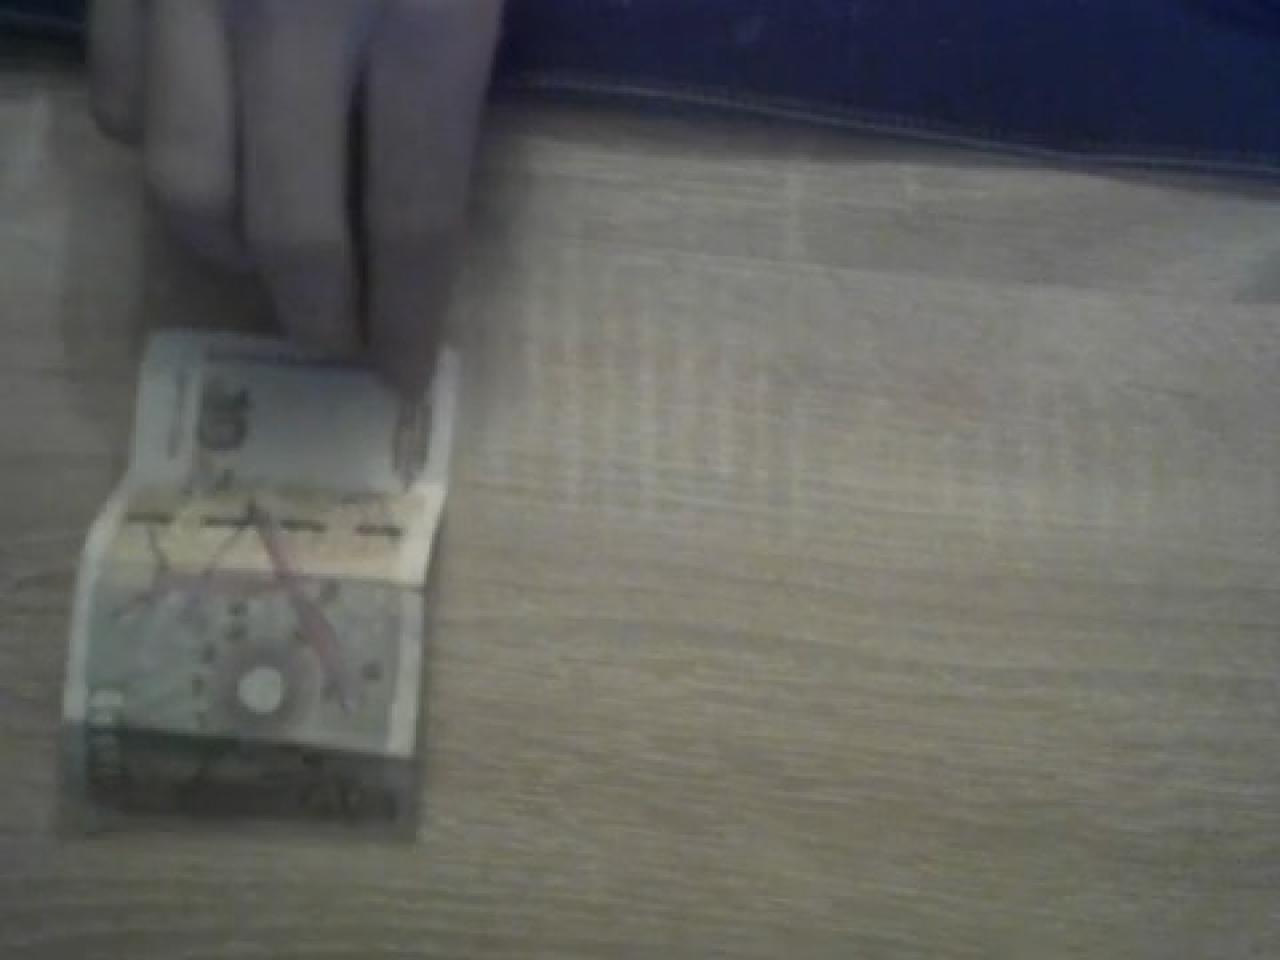10leva: (58, 290, 459, 840)
